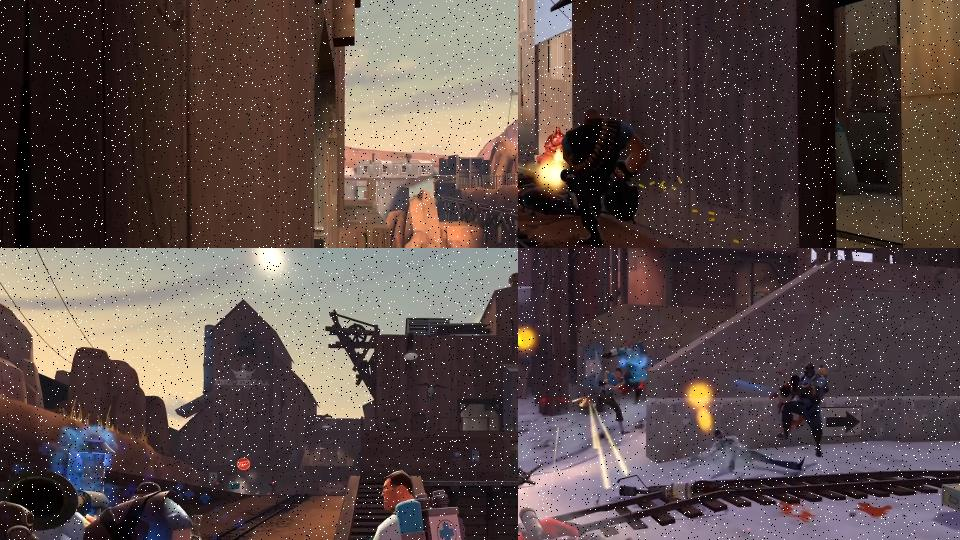Enemy: (310, 467, 491, 540), (558, 106, 650, 248), (68, 480, 223, 540), (0, 468, 108, 540), (691, 429, 805, 474), (777, 363, 830, 458), (518, 506, 644, 540), (582, 368, 631, 435), (602, 338, 647, 403)
